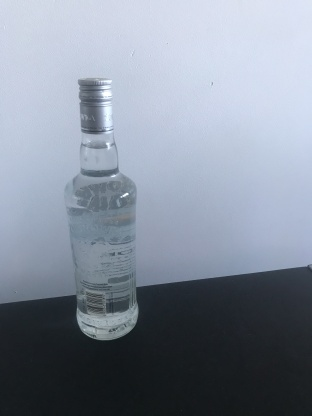nakretka: (76, 75, 116, 135)
